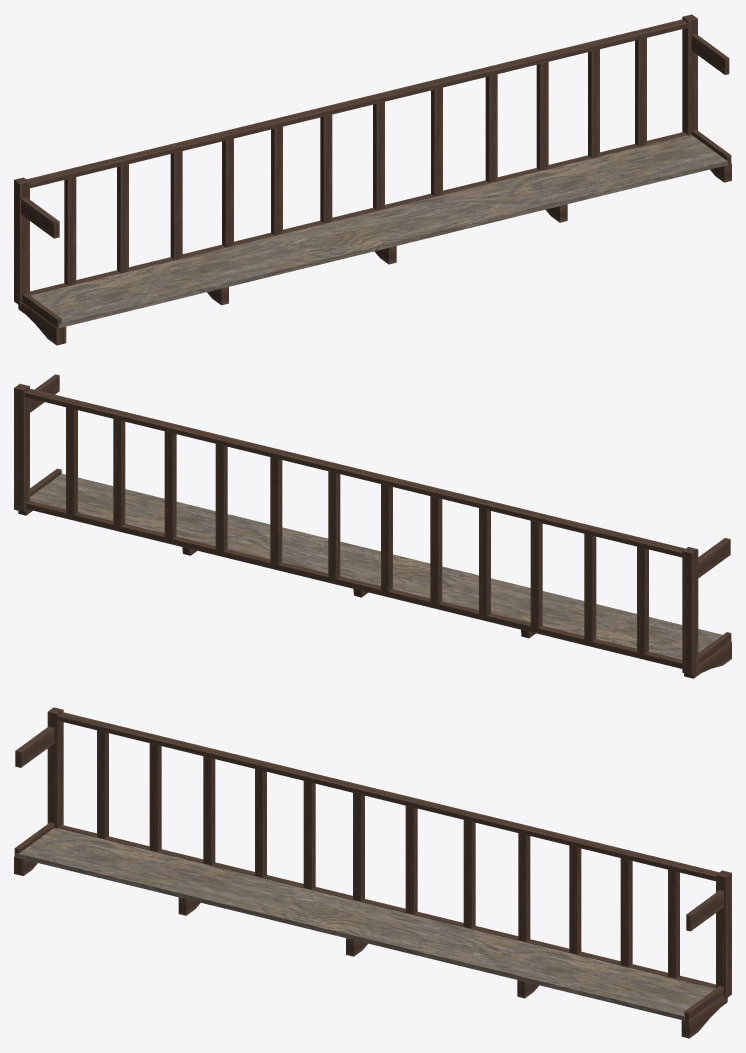
File: windowflameout04a.fbx
3 views of the same model, one above another, from view 1: azimuth 30°, elevation 25°; view 2: azimuth 150°, elevation 25°; view 3: azimuth 330°, elevation 25° (orthographic).
Visible parts, largest first — view 1: windowflameout04a; view 2: windowflameout04a; view 3: windowflameout04a.
Part boxes in pixels (x1,y1,x2,y2): windowflameout04a: [14, 14, 731, 345]; windowflameout04a: [14, 374, 731, 678]; windowflameout04a: [14, 707, 731, 1038].
Size of the model in its own units: 344 by 65.86 by 36.57.
